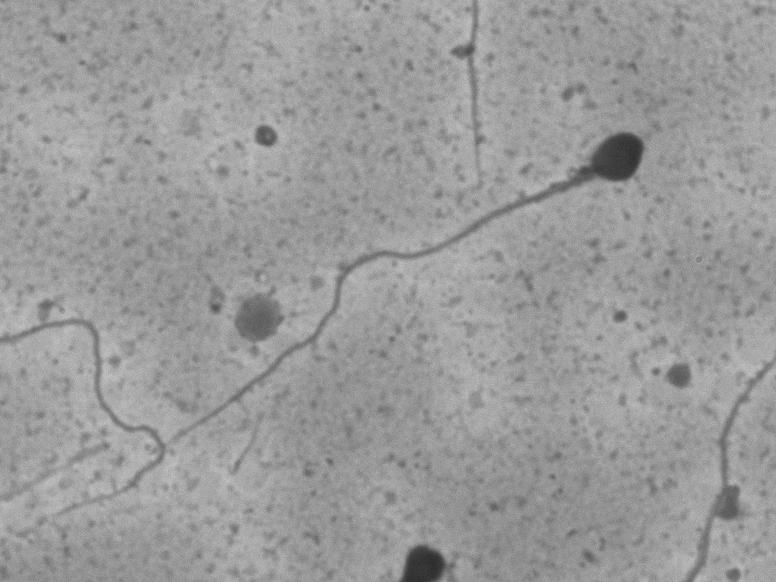Abnormal: (187, 106, 673, 456)
